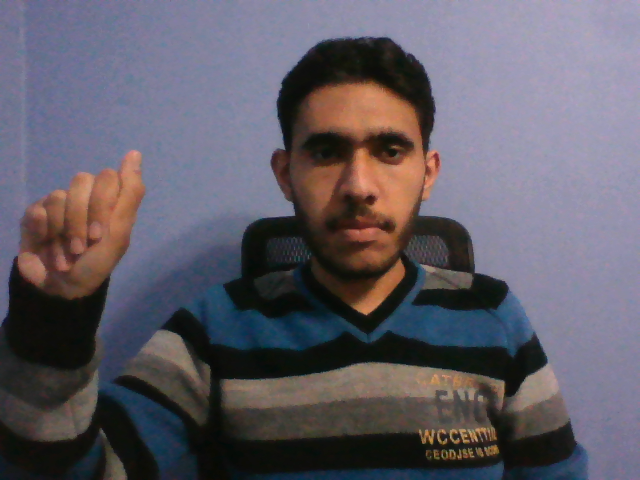A: (14, 147, 147, 297)
